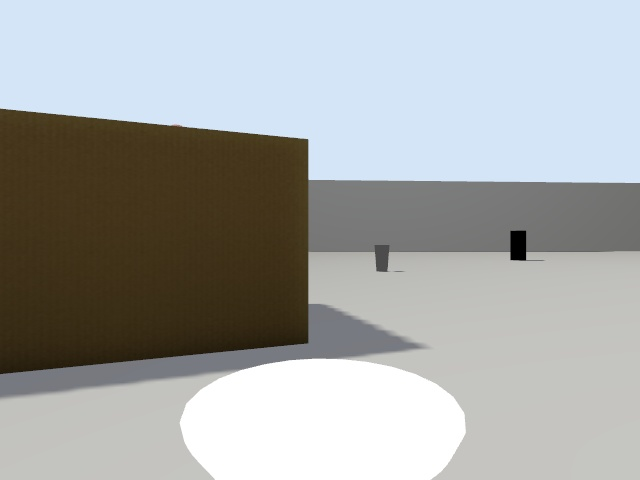bol: (180, 358, 465, 479)
bouteille_verre: (510, 230, 526, 260)
carton: (0, 109, 308, 373)
gobelet: (374, 245, 389, 271)
